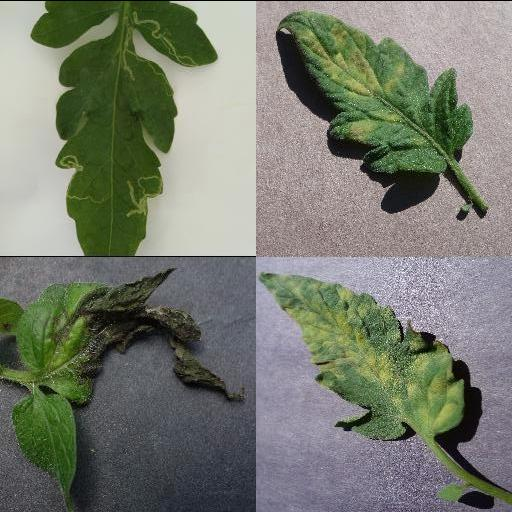Healthy: (10, 394, 78, 504)
Late Blight: (15, 264, 247, 402)
Leaf Miner: (53, 37, 179, 256), (133, 0, 221, 68)
Leaf Mold: (257, 270, 463, 439), (277, 11, 473, 171)
